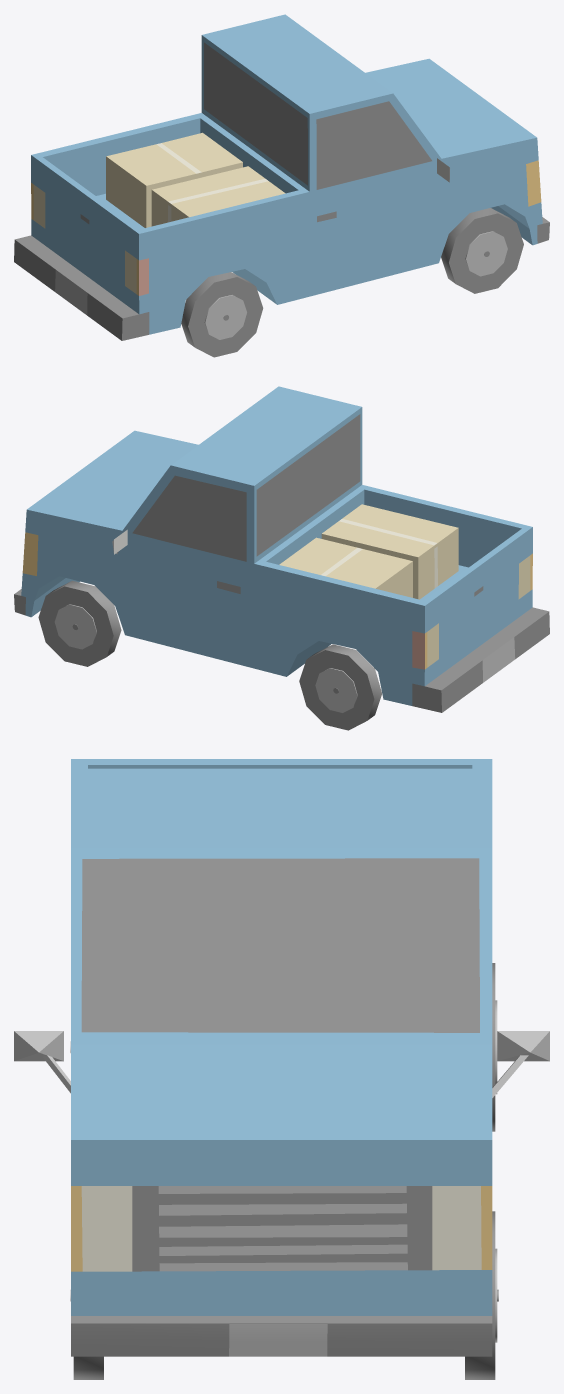
Rendered from kar_16.fbx.
3 renders of one model, top to bottom at view 1: azimuth 30°, elevation 25°; view 2: azimuth 150°, elevation 25°; view 3: azimuth 270°, elevation 25°, orthographic. The views are drawn at different scales.
Parts seen in each view (by area): view 1: Cube, Cylinder_6, Cylinder_9; view 2: Cube, Cylinder_8, Cylinder_7; view 3: Cube, Cylinder_7, Cylinder_8, Cylinder_6.
Part boxes in pixels (box(x1,y1,x2,y2)): Cube: box(14, 14, 549, 340); Cylinder_6: box(441, 208, 523, 293); Cylinder_9: box(181, 272, 263, 357); Cube: box(14, 386, 549, 712); Cylinder_8: box(299, 644, 381, 730); Cylinder_7: box(38, 580, 121, 666); Cube: box(14, 759, 549, 1356); Cylinder_7: box(465, 1211, 498, 1379); Cylinder_8: box(492, 963, 497, 1131); Cylinder_6: box(70, 1290, 103, 1379).
Bounding box in the file's own units: 435 × 215 × 242.
